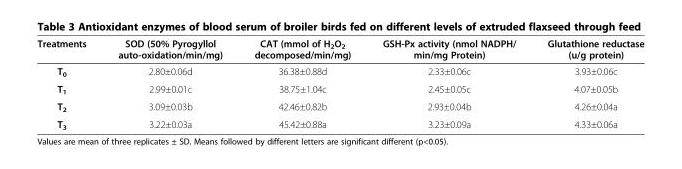table: (36, 37, 643, 130)
table column: (366, 37, 531, 130), (101, 37, 237, 130), (237, 37, 366, 130), (531, 37, 643, 130), (36, 37, 101, 130)
table column header: (36, 37, 643, 62)
table row: (36, 37, 643, 62), (36, 62, 643, 80), (36, 97, 643, 115), (36, 80, 643, 97), (36, 115, 643, 130)
